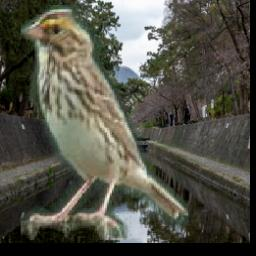Sparrow: (22, 6, 189, 241)
